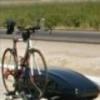bicycles: (0, 16, 52, 98)
